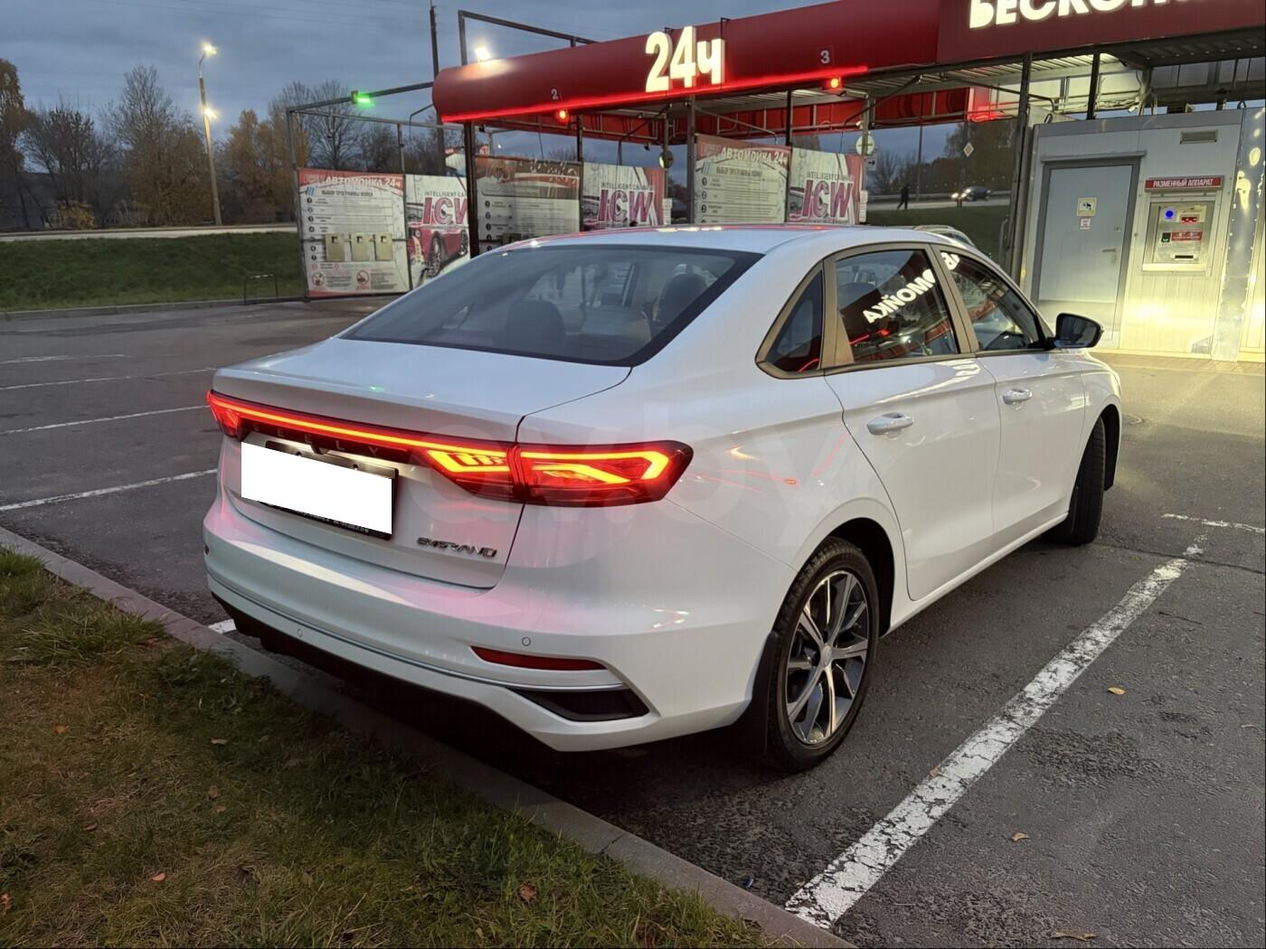Emgrand_2021: (203, 210, 1137, 773)
